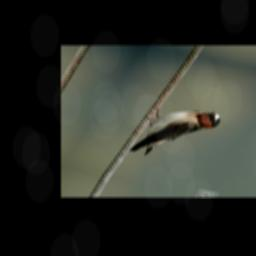Swallow: (123, 98, 229, 167)
